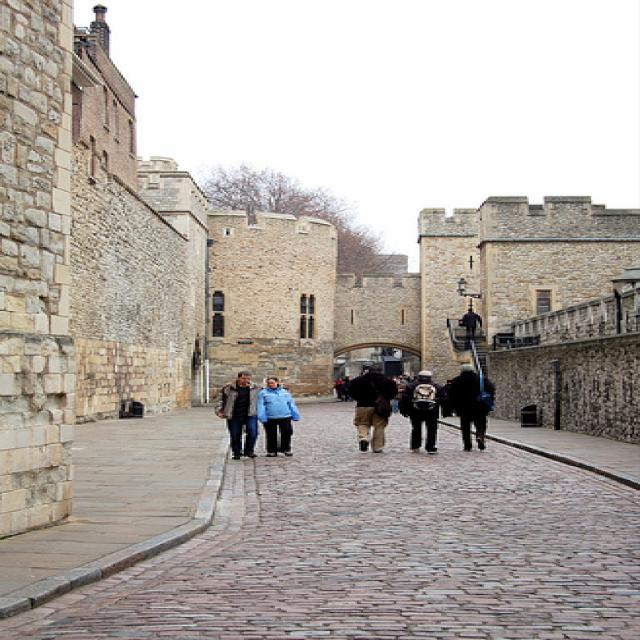person: (342, 364, 401, 456), (440, 366, 499, 454), (399, 371, 450, 455), (216, 371, 263, 460), (253, 378, 302, 460), (459, 308, 483, 339)
